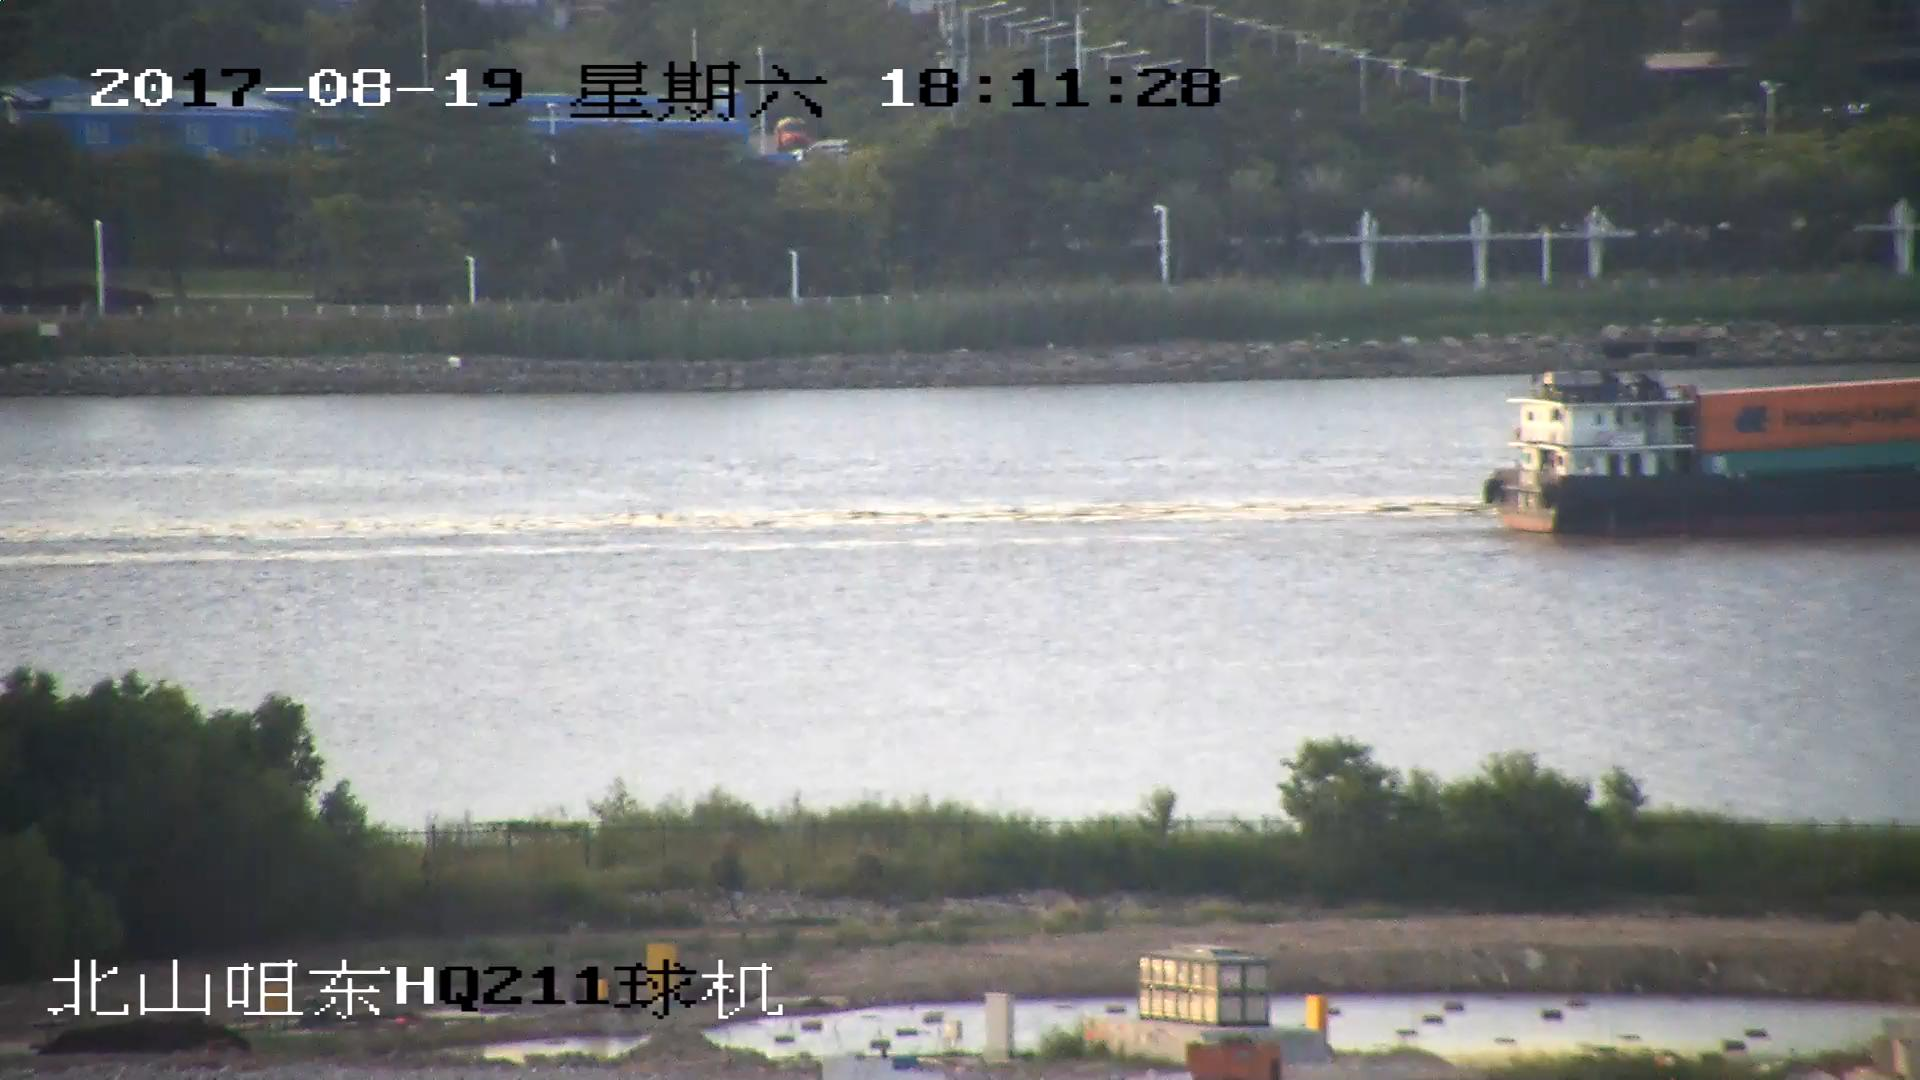container ship: (1478, 367, 1920, 542)
